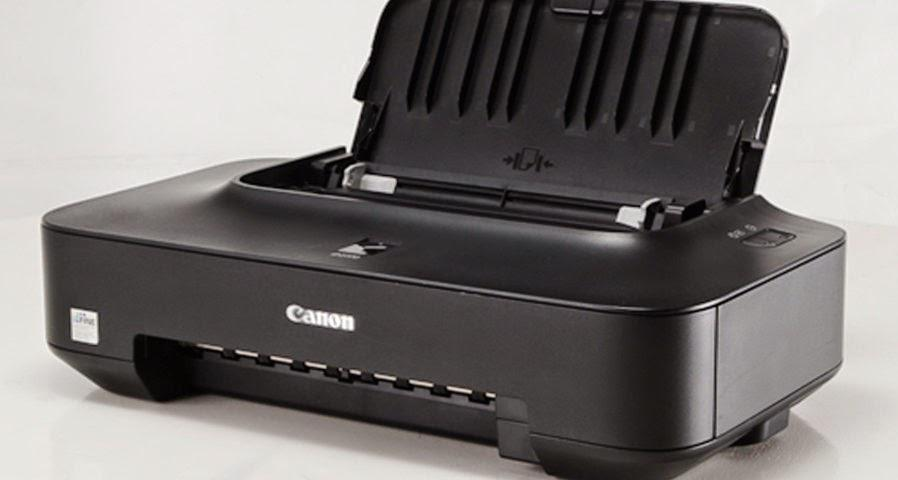printer: (37, 0, 849, 479)
